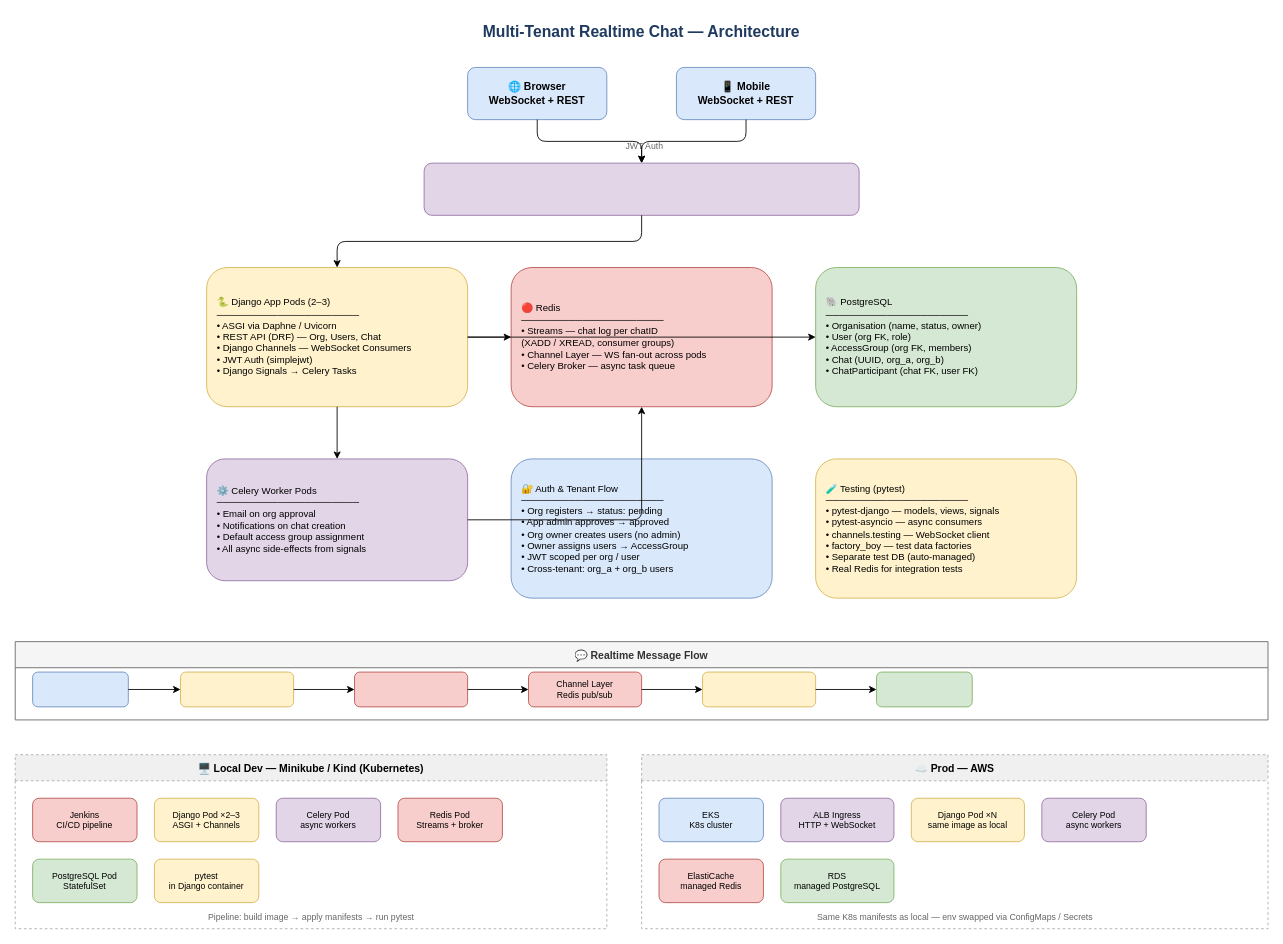
Image size: 1283x944. Some labels were removed from this diagram. Here are the shapes that lost their labels. From the top down, the centre of each, then its label:
point 641,188: 🔀 ALB Ingress Controller HTTP → REST | WebSocket → Django Channels
point 80,689: User A (WebSocket)
point 237,689: Django Channels WS Consumer
point 411,689: Redis Stream XADD chat:{id}
point 759,689: Django Channels broadcast
point 924,689: User B (WebSocket)
